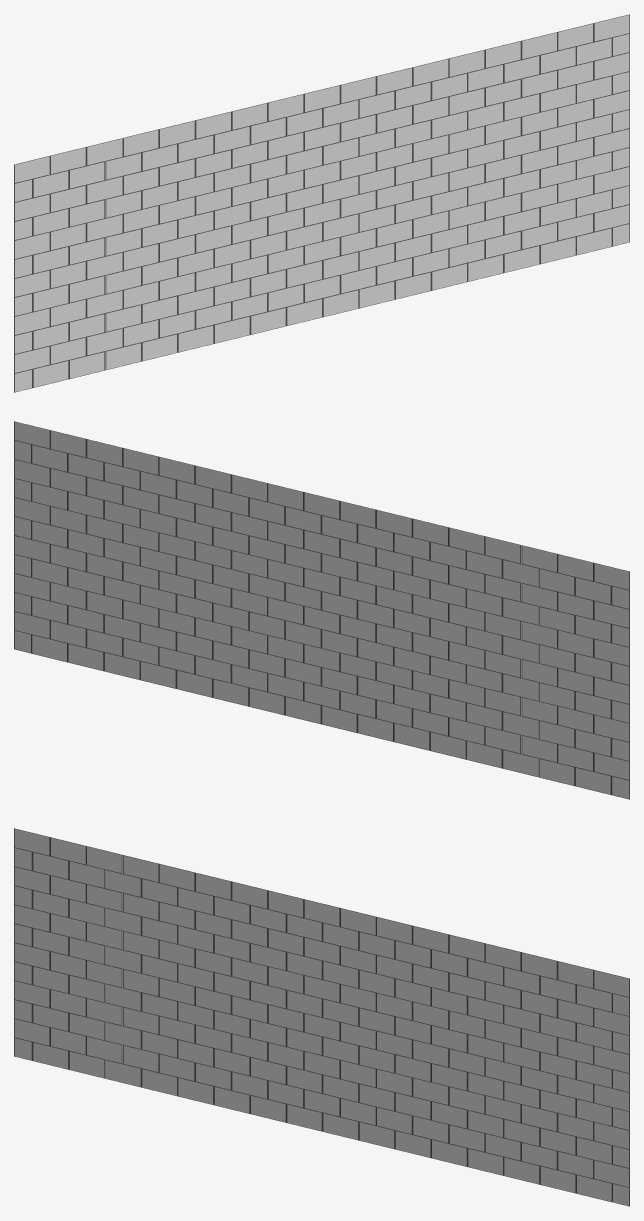
Rendered from Tiles_3.fbx.
3 renders of one model, top to bottom at view 1: azimuth 30°, elevation 25°; view 2: azimuth 150°, elevation 25°; view 3: azimuth 330°, elevation 25°, orthographic.
Parts seen in each view (by area): view 1: Tiles_3; view 2: Tiles_3; view 3: Tiles_3.
Boxes of the visible parts, x1,y1,x2,y2 form: Tiles_3: (14,14,629,392); Tiles_3: (14,421,629,799); Tiles_3: (14,828,629,1206).
Bounding box in the file's own units: 489 × 0.167 × 173.
